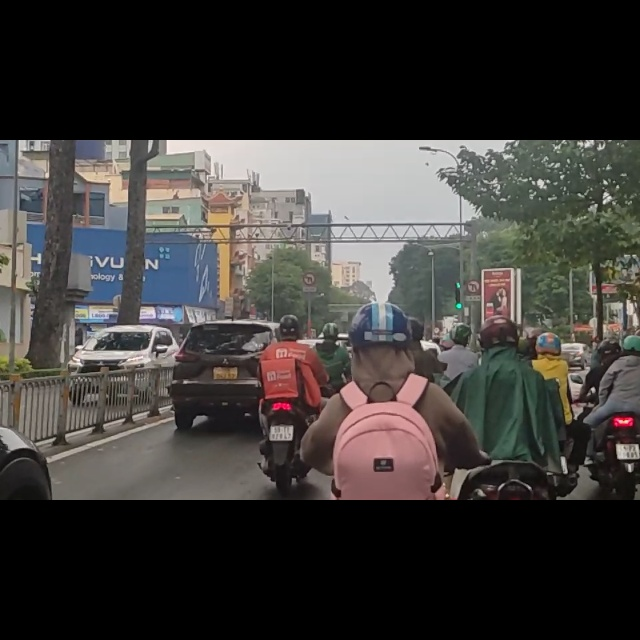bien_cam: (466, 247, 481, 274), (303, 236, 316, 258)
